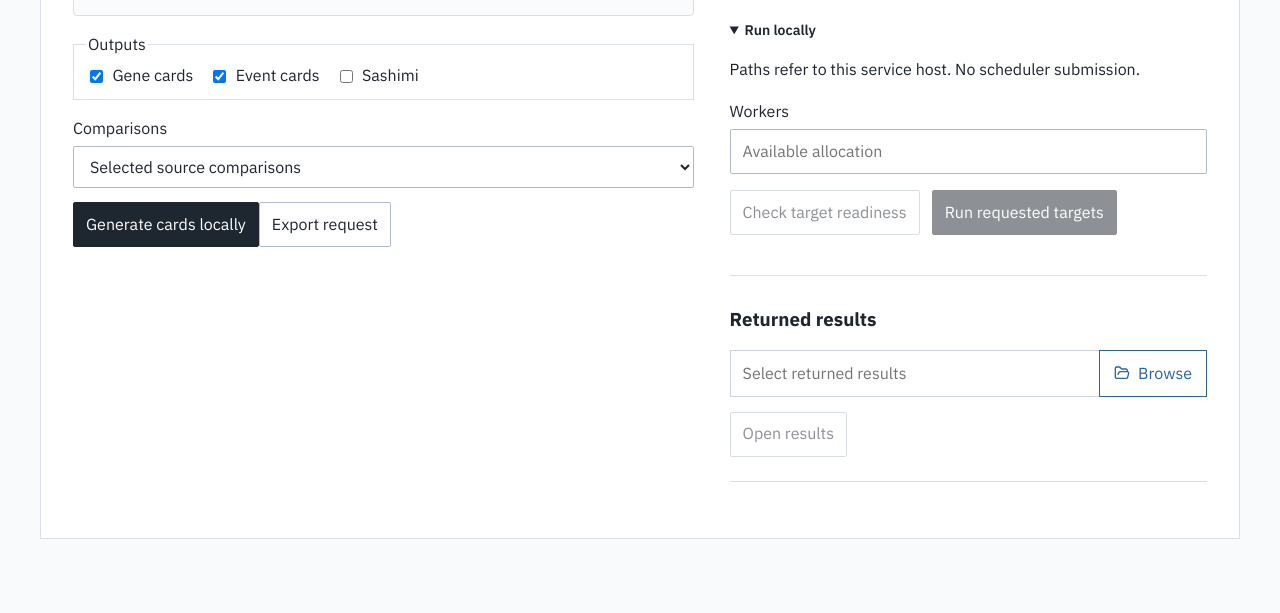
Test: exports exact target context, explicitly binds resources, runs and browses verified output
Step 1. Click the checkbox labelled "Sashimi" → point(346, 76), box [340,70,353,83]
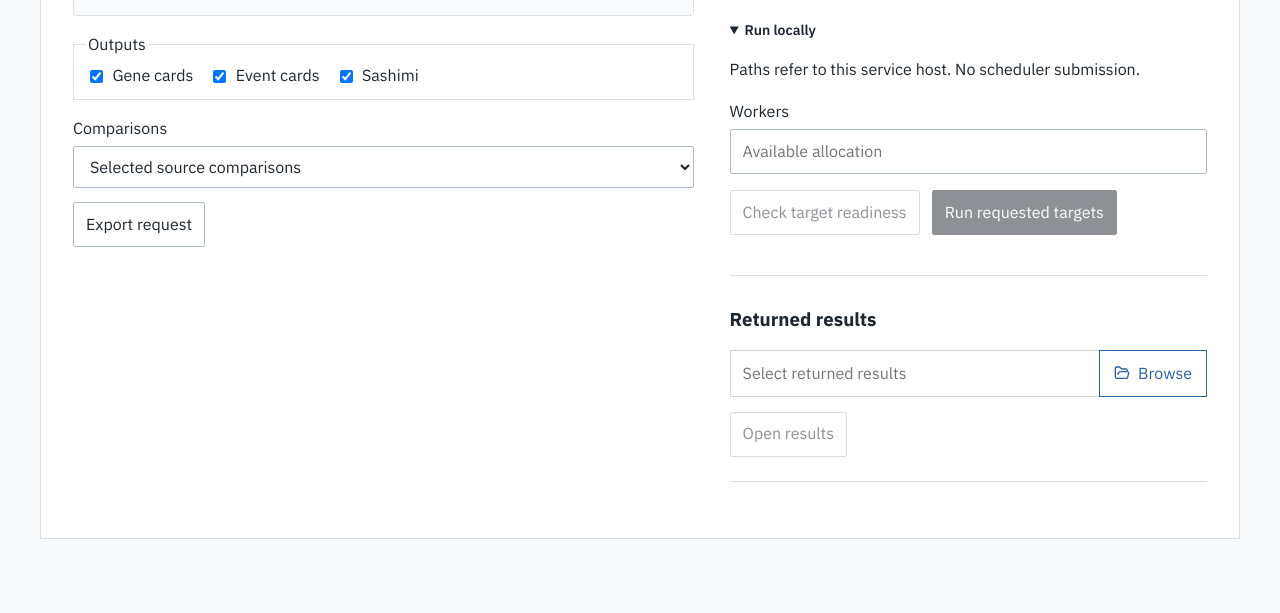
Step 2. Click the button with aria-label "Export portable target request" → point(139, 225), box [73,202,205,248]
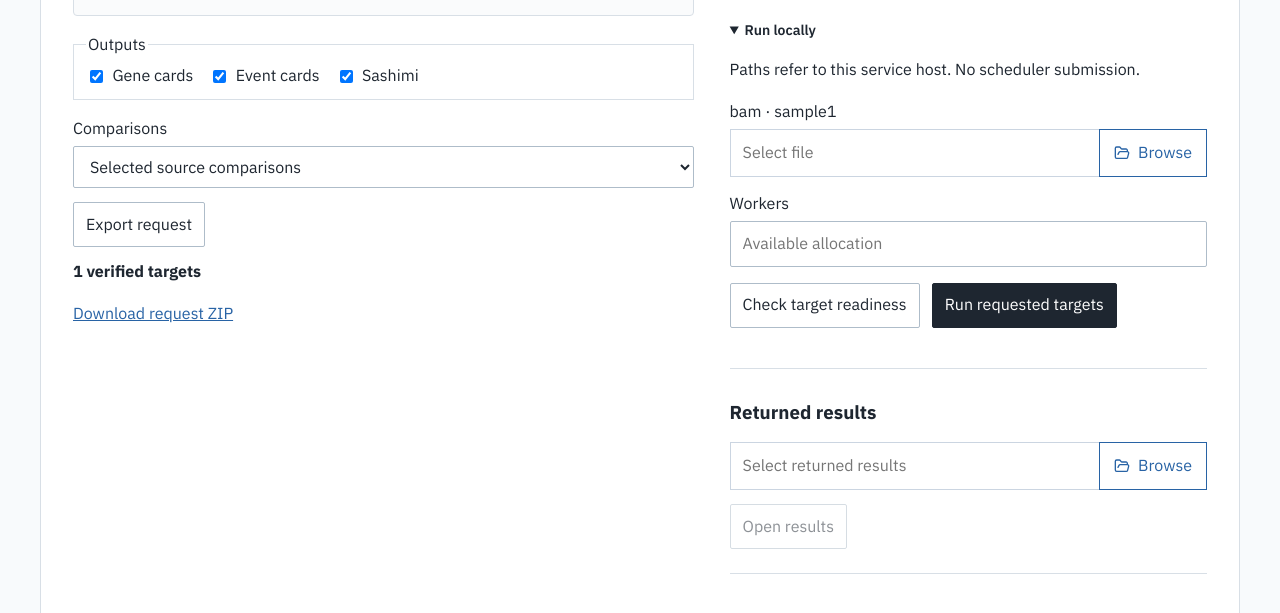
Step 3. Type "/server/sample.bam" into the field named "Resource path bam:sample1" → point(915, 153), box [730,129,1100,177]
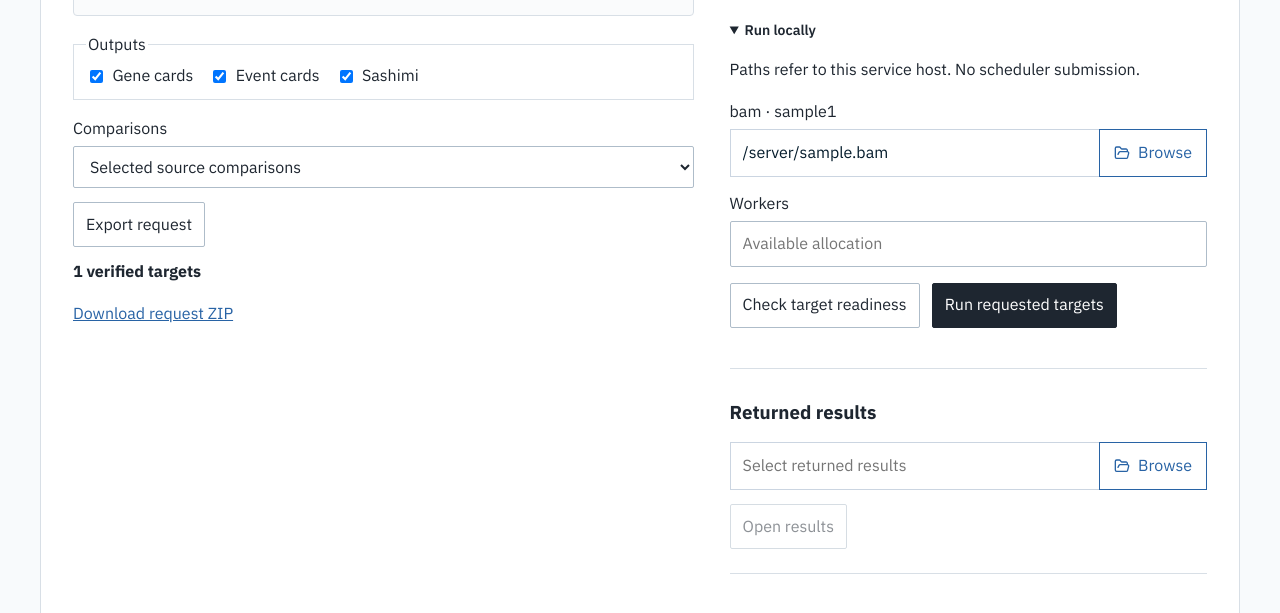
Step 4. Click the button "Check target readiness" → point(825, 305), box [730,283,920,328]
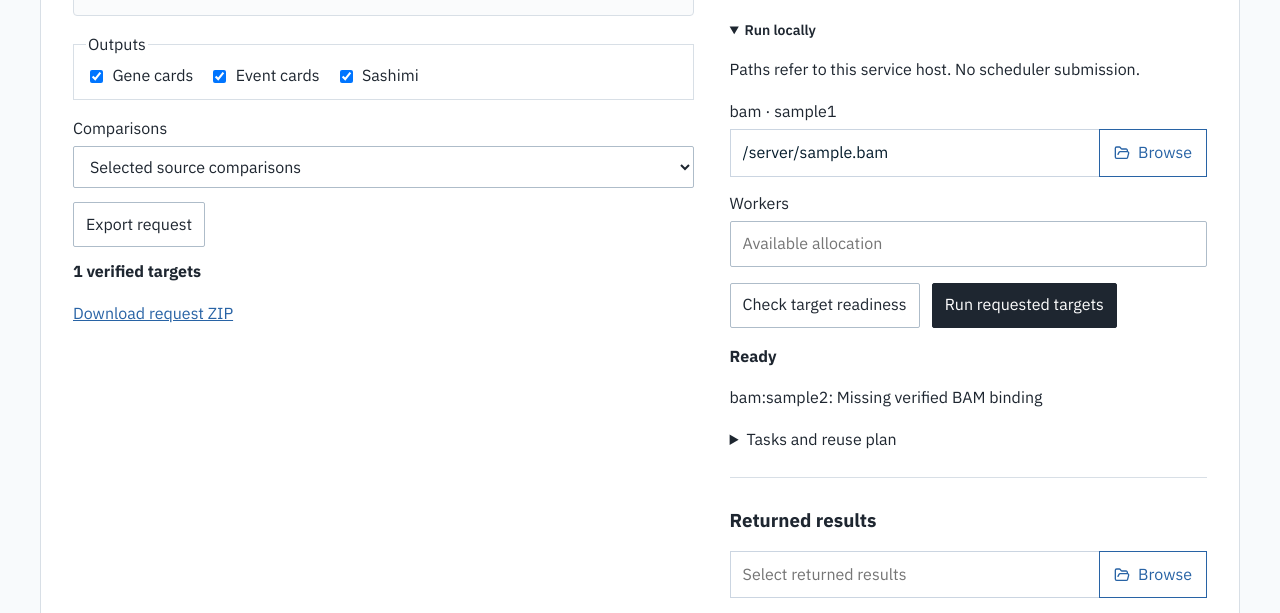
expect the text "Ready" is shown: met, box [730,346,776,366]
expect the text "bam:sample2: Missing verified BAM binding" is shown: met, box [730,387,1042,407]
Step 5. Click the button "Run requested targets" → point(1024, 305), box [932,283,1117,328]
(page scrolled)
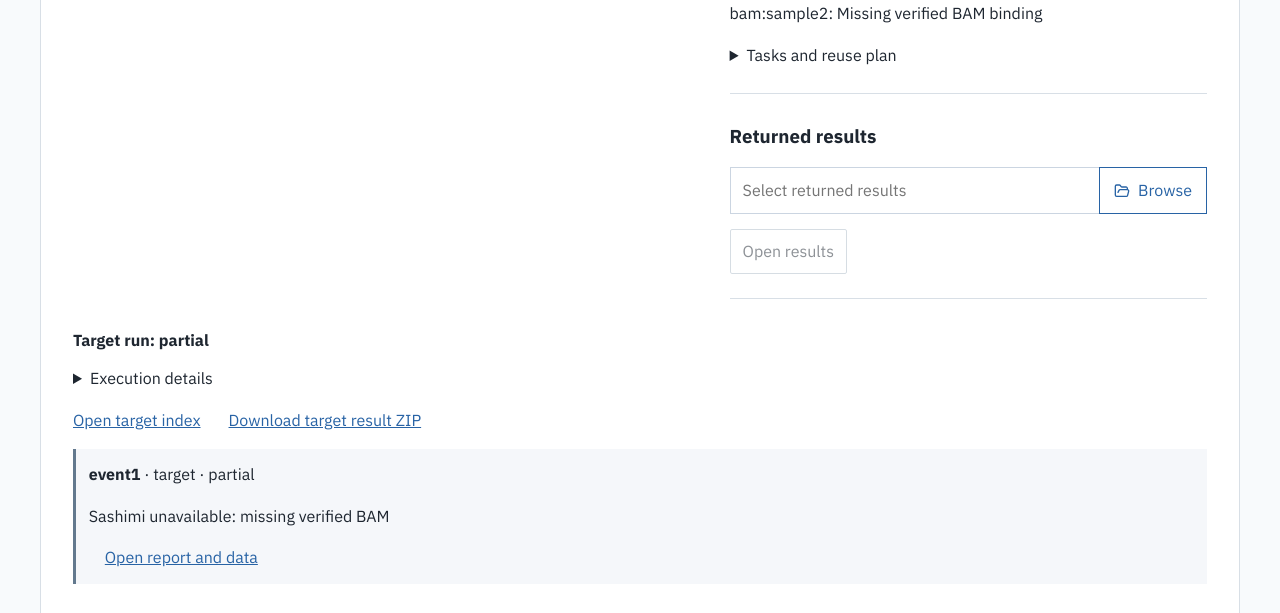
expect the text "Sashimi unavailable: missing verified BAM" is shown: met, box [89,506,390,526]
expect the heading "Target run: partial" is shown: met, box [73,330,209,350]
